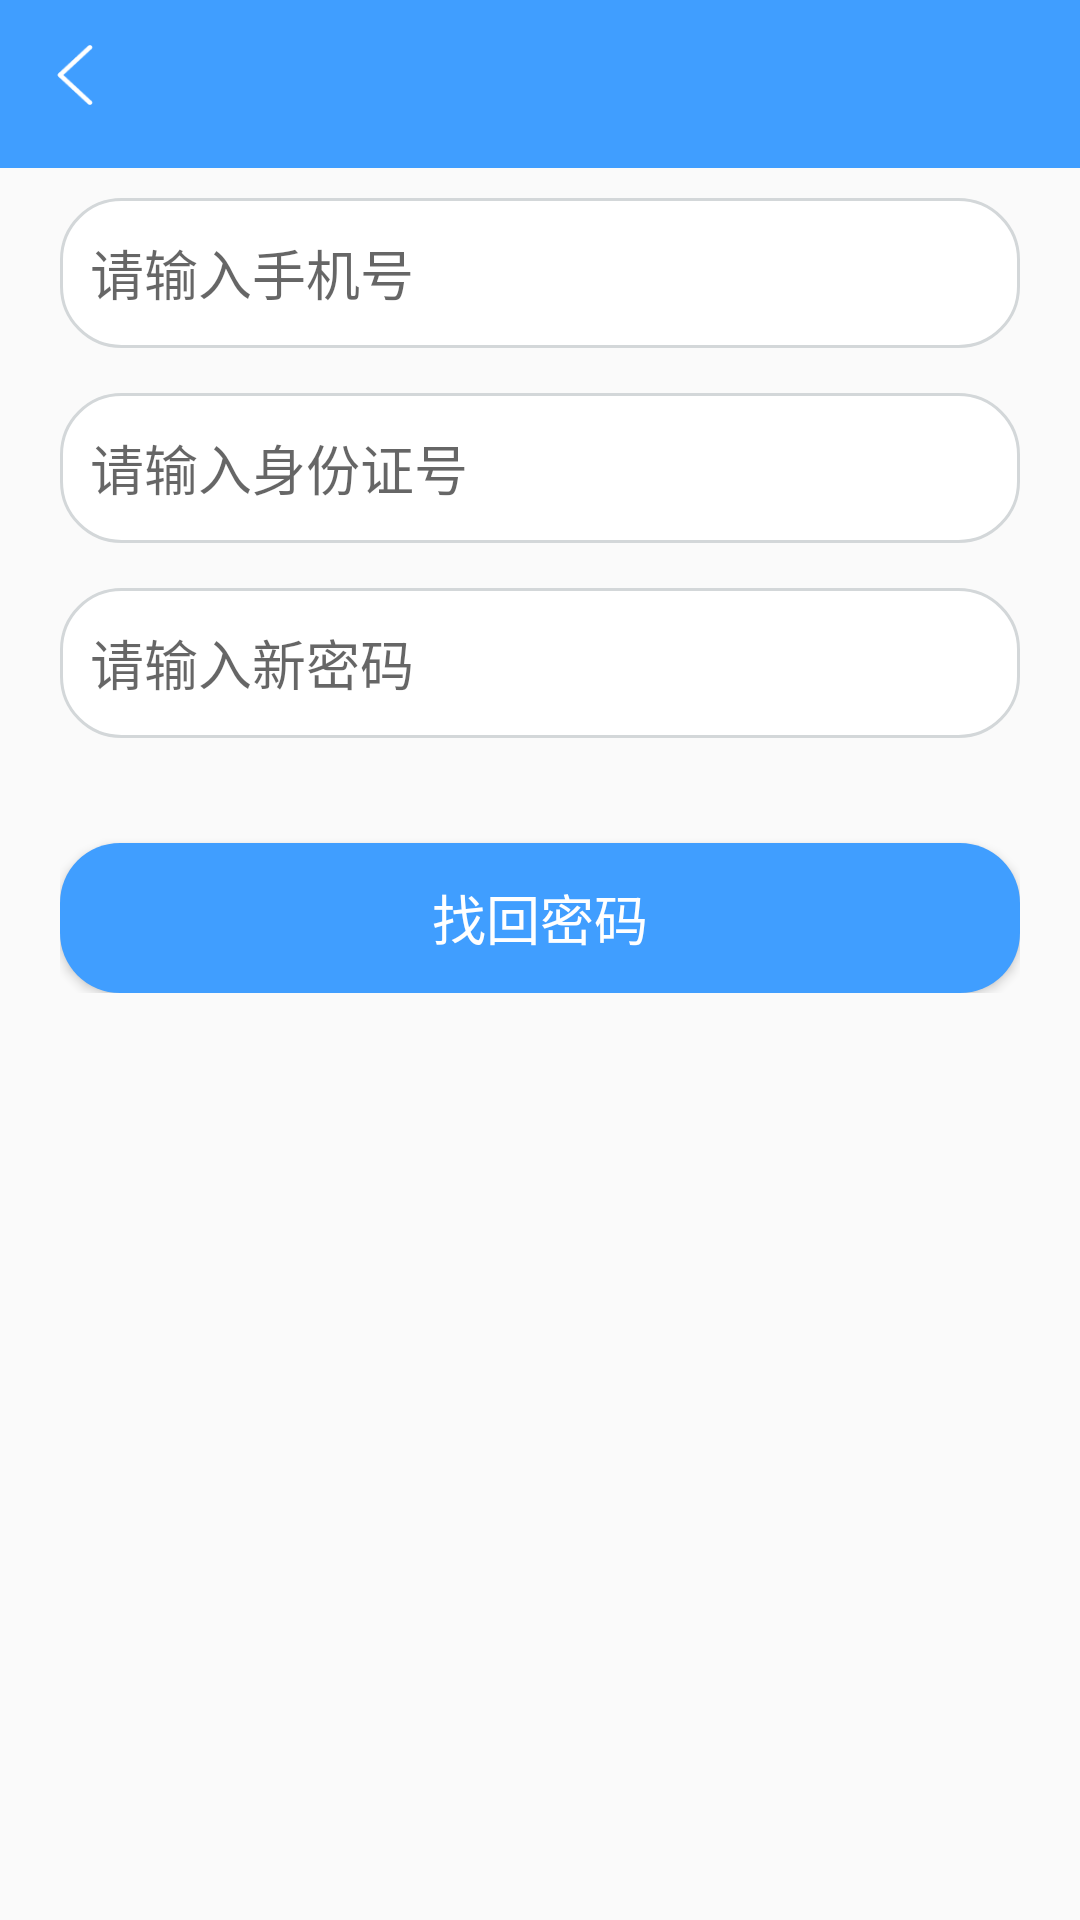

Point at icon controls on the screen. Image size 1080 × 1920, points as (x=x, y=y).
back: (x=75, y=75)
